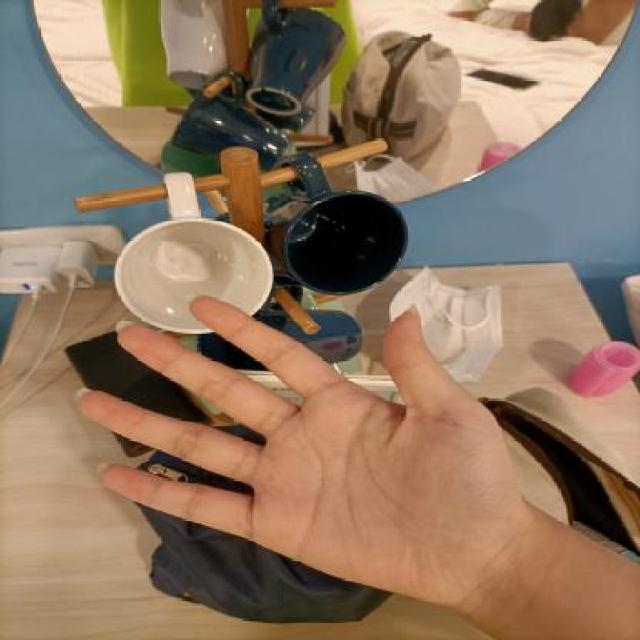bare_hand: (71, 275, 571, 617)
